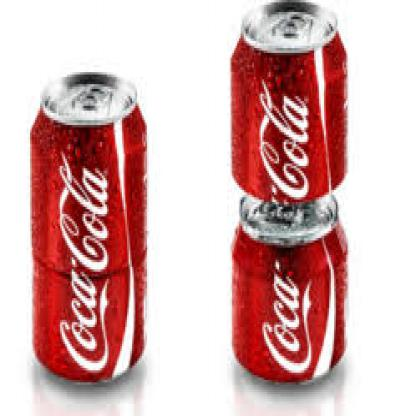METAL: (28, 63, 147, 385), (229, 0, 346, 202), (230, 192, 348, 385)
